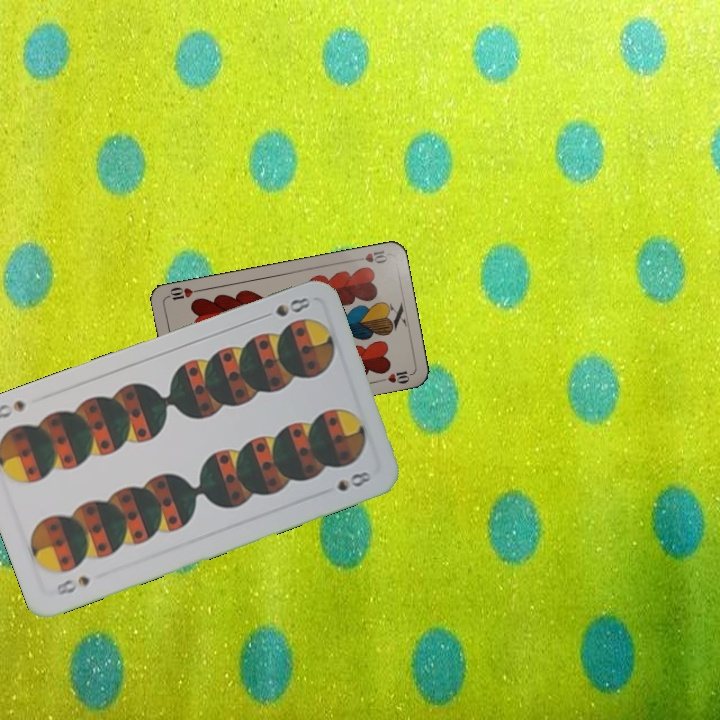H10: (350, 246, 390, 266)
S8: (256, 293, 313, 322), (51, 571, 93, 598)
